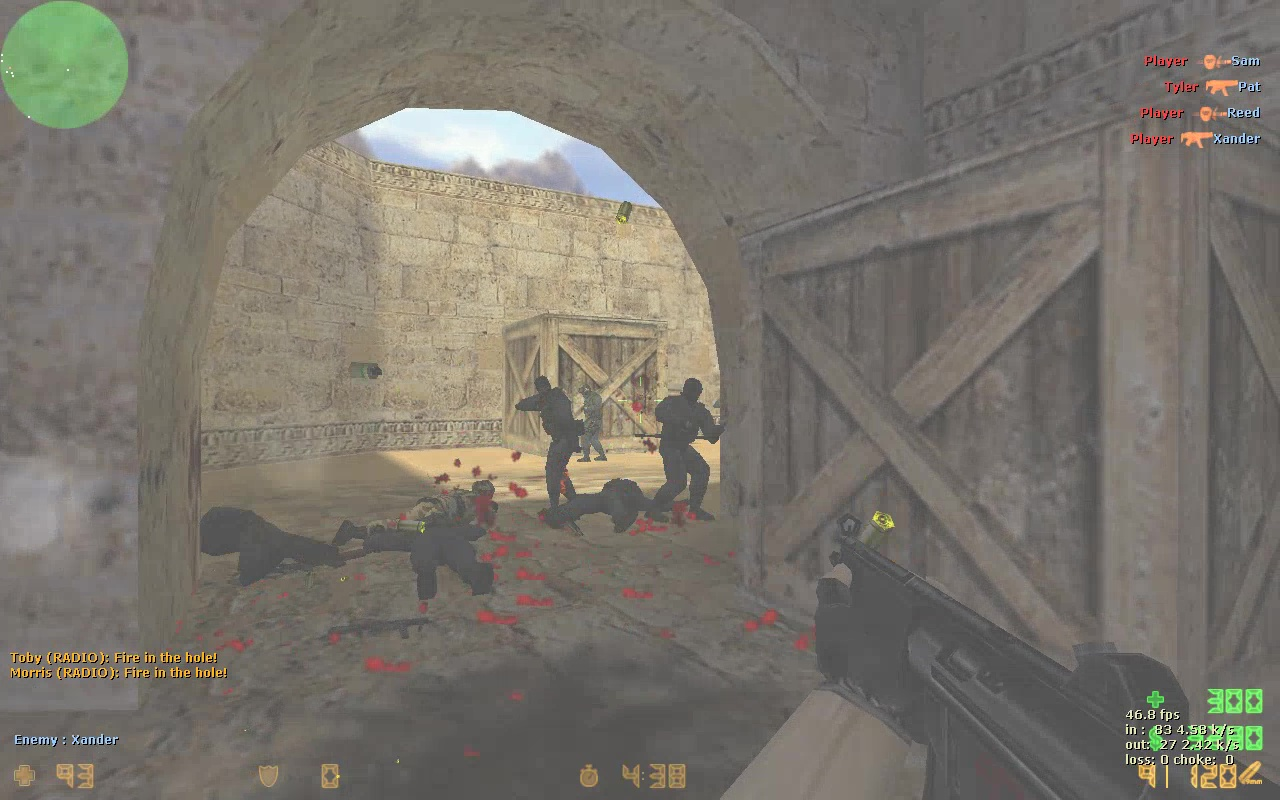ct: (514, 371, 589, 519), (649, 382, 718, 519), (578, 383, 606, 463)
dead: (198, 504, 348, 584), (331, 487, 516, 531), (531, 480, 658, 531)
